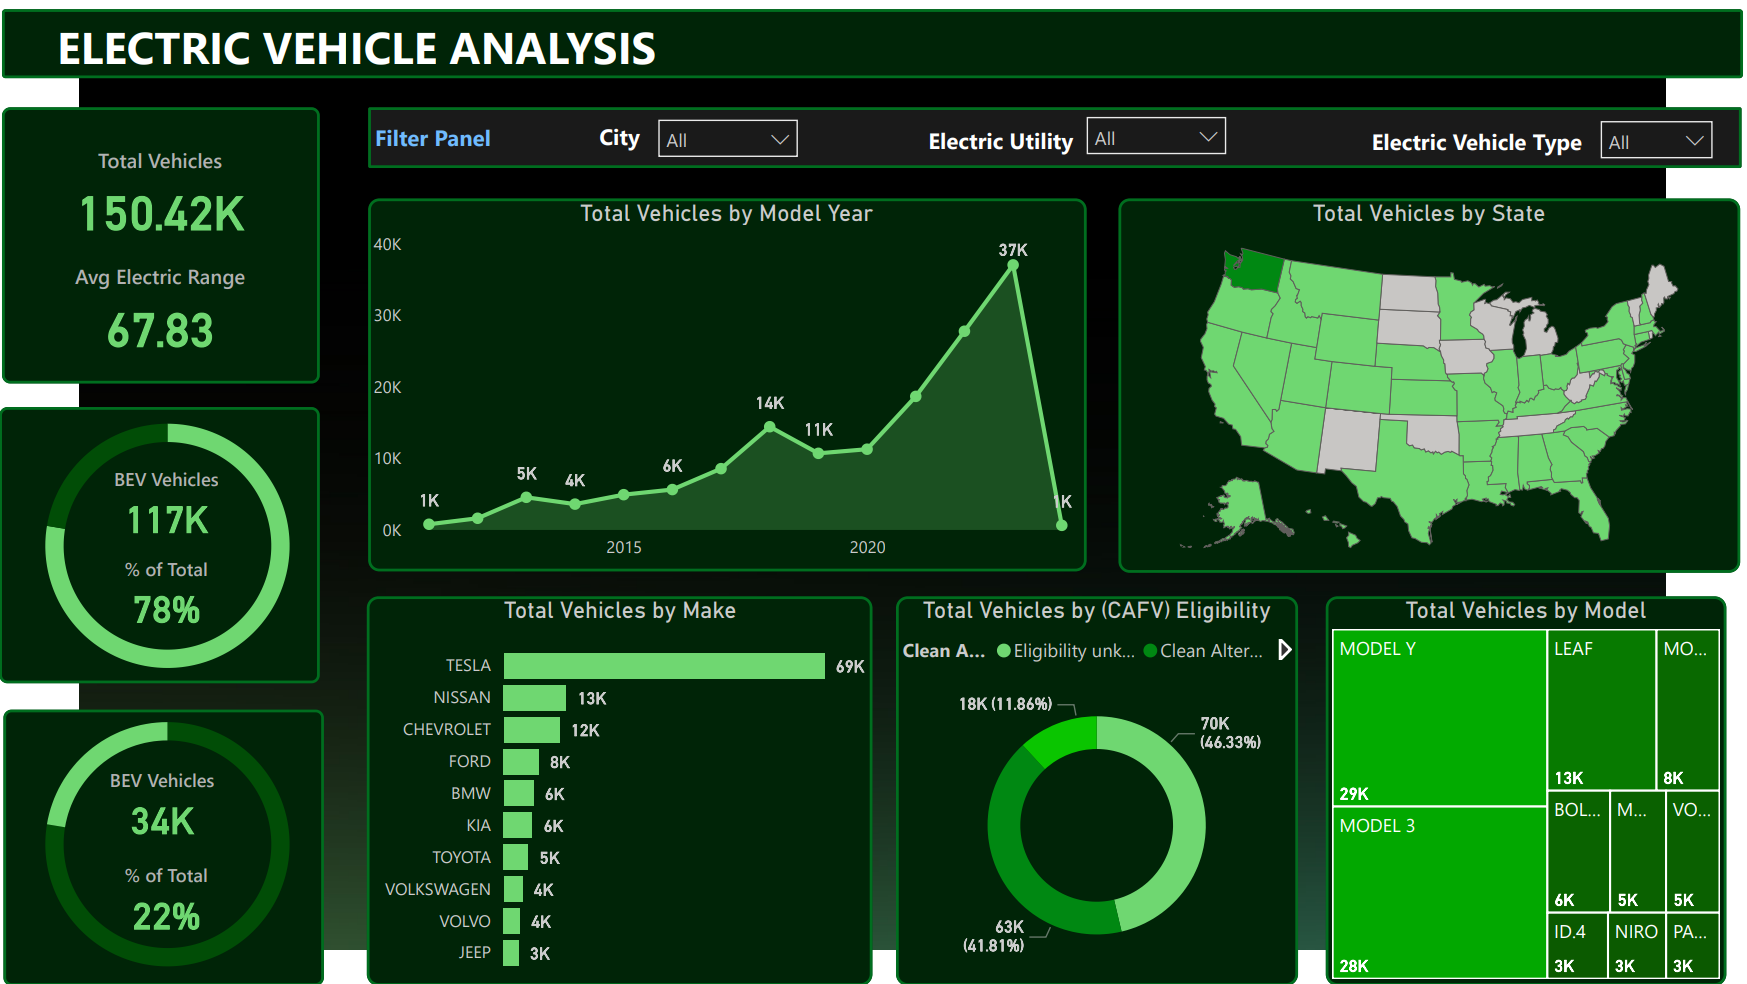

Layout of this report page (visuals, bound fields, positions):
{"tool":"powerbi","page":{"name":"Page 1","canvas":[1280,720],"ordinal":0},"visuals":[{"type":"shape","box":[10,0,1260,50],"z":0},{"type":"textbox","box":[45.2,0,456,56],"z":1000},{"type":"shape","box":[9.5,71.4,231,200],"z":2000},{"type":"card","title":"Total Vehicles","fields":{"Values":["_Measures.Total Vehicles"]},"box":[20.2,98.8,208.3,72.6],"z":3000},{"type":"card","title":"Avg Electric Range","fields":{"Values":["Avg(Electric_Vehicle_Population_Data.Electric Range)"]},"box":[20.2,183.3,208.3,72.6],"z":4000},{"type":"shape","box":[8.3,288.1,232.1,200],"z":5000},{"type":"shape","box":[10.7,507.1,232.1,200],"z":6000},{"type":"donutChart","fields":{"Category":["Electric_Vehicle_Population_Data.Electric Vehicle Type"],"Y":["_Measures.Total Vehicles"]},"box":[0,272.6,259.5,231],"z":7000},{"type":"card","title":"BEV Vehicles","fields":{"Values":["_Measures.BEV Vehicles"]},"box":[57.1,331,144,56],"z":8000},{"type":"card","title":"% of Total","fields":{"Values":["_Measures.% of BEV vehicles"]},"box":[57.1,396.4,144,56],"z":9000},{"type":"donutChart","fields":{"Category":["Electric_Vehicle_Population_Data.Electric Vehicle Type"],"Y":["_Measures.Total Vehicles"]},"box":[0,489.3,259.5,231],"z":10000},{"type":"card","title":"BEV Vehicles","fields":{"Values":["_Measures.PHEV Vehicles"]},"box":[53.6,548.8,144,56],"z":11000},{"type":"card","title":"% of Total","fields":{"Values":["_Measures.% of PBEV vehicles"]},"box":[57.1,617.9,144,56],"z":12000},{"type":"shape","box":[275,71.4,994.1,44],"z":13000},{"type":"shape","box":[275,136.9,520.2,270.2],"z":14000},{"type":"areaChart","fields":{"Category":["Electric_Vehicle_Population_Data.Model Year"],"Y":["_Measures.Total Vehicles"]},"box":[274.4,137.2,520.1,270.3],"z":15000},{"type":"shape","box":[817.8,137.2,450.1,270.3],"z":16000},{"type":"shapeMap","fields":{"Category":["Electric_Vehicle_Population_Data.State"],"Value":["_Measures.Total Vehicles"]},"box":[817.9,136.9,450,270.2],"z":17000},{"type":"shape","box":[273.8,425,366.7,282.1],"z":18000},{"type":"barChart","fields":{"Category":["Electric_Vehicle_Population_Data.Make"],"Y":["_Measures.Total Vehicles"]},"box":[275,425,365.5,282.1],"z":19000},{"type":"shape","box":[657.1,425,290.5,282.1],"z":20000},{"type":"donutChart","title":"Total Vehicles by (CAFV) Eligibility","fields":{"Y":["_Measures.Total Vehicles"],"Category":["Electric_Vehicle_Population_Data.Clean Alternative Fuel Vehicle (CAFV) Eligibility"]},"box":[657.1,425,290.5,282.1],"z":21000},{"type":"shape","box":[967.9,425,290.5,282.1],"z":22000},{"type":"treemap","fields":{"Values":["_Measures.Total Vehicles"],"Group":["Electric_Vehicle_Population_Data.Model"]},"box":[967.9,425,290.5,282.1],"z":23000},{"type":"textbox","box":[275,77.4,96.4,33.3],"z":24000},{"type":"slicer","fields":{"Values":["Electric_Vehicle_Population_Data.City"]},"box":[475,70.2,121.4,42.9],"z":25000},{"type":"textbox","box":[423.8,76.2,66.7,36.9],"z":26000},{"type":"slicer","fields":{"Values":["Electric_Vehicle_Population_Data.Electric Utility"]},"box":[784.5,67.9,121.4,42.9],"z":26001},{"type":"textbox","box":[671.4,78.6,123.8,36.9],"z":26002},{"type":"slicer","fields":{"Values":["Electric_Vehicle_Population_Data.Electric Vehicle Type"]},"box":[1157.1,71.4,101.2,42.9],"z":26003},{"type":"textbox","box":[986.9,79.8,181,33.3],"z":26004}]}

Visuals, with their boxes in screenshot pixels (x1, y1, x2, y2), scaled from the page's 1280x720 canvas onto the 1747x984 screenshot:
shape: select_region(14, 0, 1733, 68)
textbox: select_region(62, 0, 684, 77)
shape: select_region(13, 98, 328, 371)
"Total Vehicles" card: select_region(28, 135, 312, 234)
"Avg Electric Range" card: select_region(28, 251, 312, 350)
shape: select_region(11, 394, 328, 667)
shape: select_region(15, 693, 331, 966)
donutChart - Electric_Vehicle_Population_Data.Electric Vehicle Type x _Measures.Total Vehicles: select_region(0, 373, 354, 688)
"BEV Vehicles" card: select_region(78, 452, 274, 529)
"% of Total" card: select_region(78, 542, 274, 618)
donutChart - Electric_Vehicle_Population_Data.Electric Vehicle Type x _Measures.Total Vehicles: select_region(0, 669, 354, 983)
"BEV Vehicles" card: select_region(73, 750, 270, 827)
"% of Total" card: select_region(78, 844, 274, 921)
shape: select_region(375, 98, 1732, 158)
shape: select_region(375, 187, 1085, 556)
areaChart - Electric_Vehicle_Population_Data.Model Year x _Measures.Total Vehicles: select_region(375, 188, 1084, 557)
shape: select_region(1116, 188, 1730, 557)
shapeMap - Electric_Vehicle_Population_Data.State x _Measures.Total Vehicles: select_region(1116, 187, 1730, 556)
shape: select_region(374, 581, 874, 966)
barChart - Electric_Vehicle_Population_Data.Make x _Measures.Total Vehicles: select_region(375, 581, 874, 966)
shape: select_region(897, 581, 1293, 966)
"Total Vehicles by (CAFV) Eligibility" donutChart: select_region(897, 581, 1293, 966)
shape: select_region(1321, 581, 1718, 966)
treemap - _Measures.Total Vehicles x Electric_Vehicle_Population_Data.Model: select_region(1321, 581, 1718, 966)
textbox: select_region(375, 106, 507, 151)
slicer - Electric_Vehicle_Population_Data.City: select_region(648, 96, 814, 155)
textbox: select_region(578, 104, 669, 155)
slicer - Electric_Vehicle_Population_Data.Electric Utility: select_region(1071, 93, 1236, 151)
textbox: select_region(916, 107, 1085, 158)
slicer - Electric_Vehicle_Population_Data.Electric Vehicle Type: select_region(1579, 98, 1717, 156)
textbox: select_region(1347, 109, 1594, 155)
